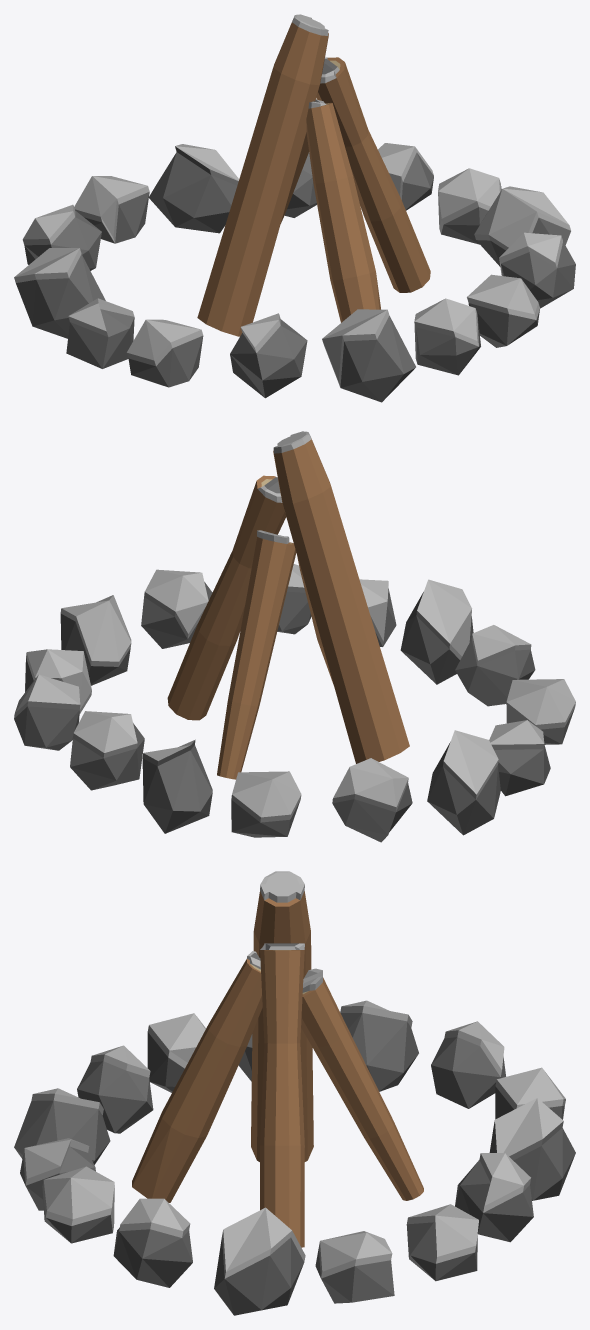
Rendered from Campfire_1 Winter.fbx.
The picture shows the model from 3 angles, top to bottom: view 1: azimuth 30°, elevation 25°; view 2: azimuth 150°, elevation 25°; view 3: azimuth 270°, elevation 25°; orthographic projection. The views are drawn at different scales.
Visible parts, largest first — view 1: CampfireWinter_1; view 2: CampfireWinter_1; view 3: CampfireWinter_1.
Boxes of the visible parts, left/top/right/bottom form: CampfireWinter_1: left=14, top=14, right=575, bottom=402; CampfireWinter_1: left=14, top=431, right=575, bottom=842; CampfireWinter_1: left=14, top=871, right=575, bottom=1315.
Bounding box in the file's own units: 128 × 76.14 × 119.
